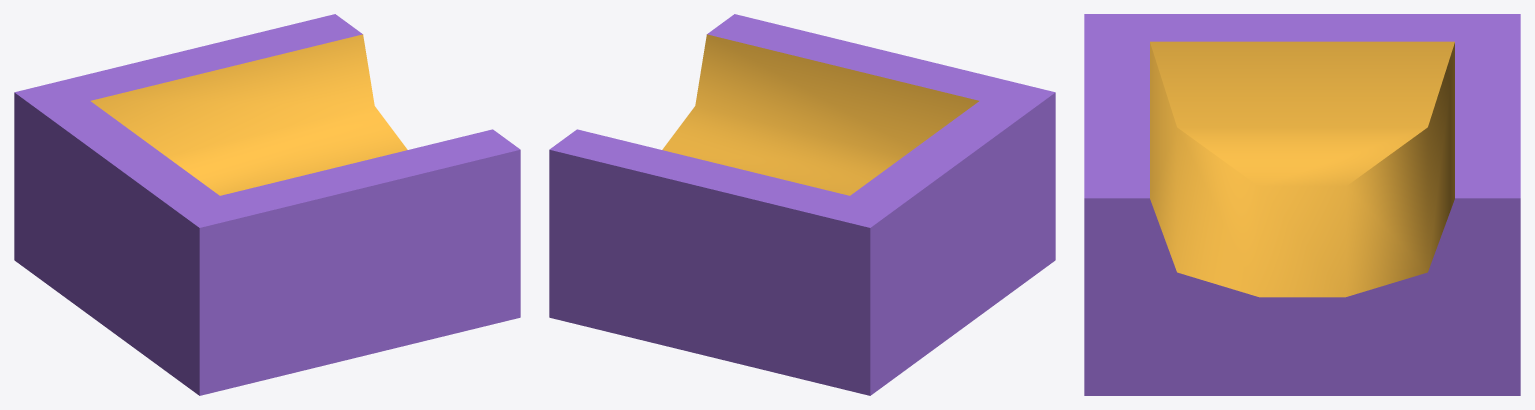
File: end-square-col.glb
The picture shows the model from 3 angles, left to right: view 1: azimuth 30°, elevation 25°; view 2: azimuth 150°, elevation 25°; view 3: azimuth 270°, elevation 25°; orthographic projection. The views are drawn at different scales.
Parts seen in each view (by area): view 1: end-square-col; view 2: end-square-col; view 3: end-square-col.
Part boxes in pixels (<box>): end-square-col: <box>14,14,520,395</box>; end-square-col: <box>549,14,1055,395</box>; end-square-col: <box>1084,14,1520,395</box>.
Size of the model in its own units: 1 by 0.5 by 1.
Materials: 1 (1 with a texture image).
